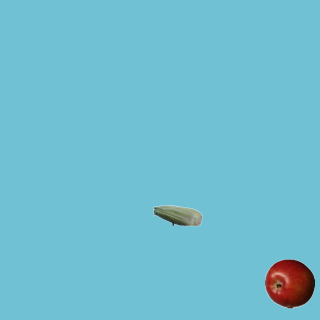Apple Braeburn: (264, 258, 314, 308)
Corn Husk: (152, 190, 202, 240)
